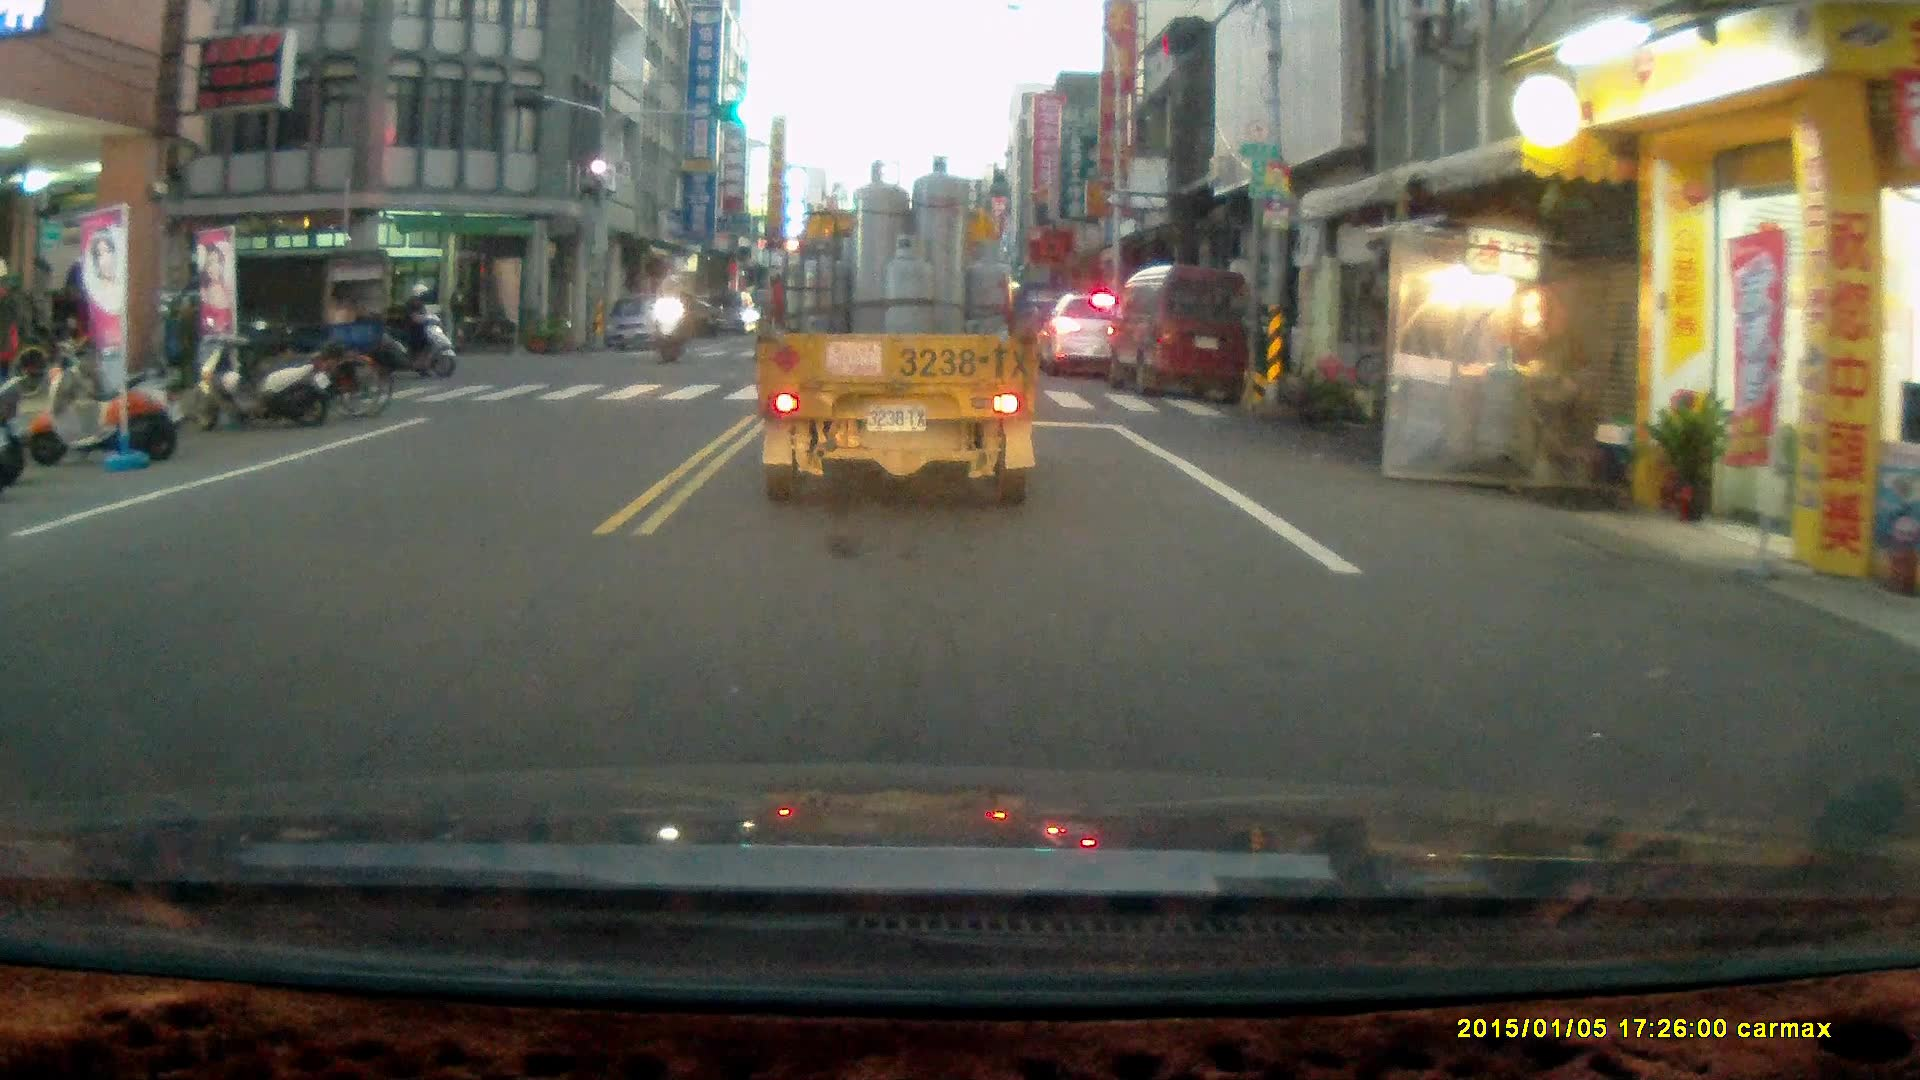pedestrian: (56, 260, 92, 369), (445, 276, 471, 354)
rider: (381, 284, 459, 384), (645, 269, 693, 366)
vehicle: (753, 163, 1031, 514), (129, 247, 395, 394), (1104, 264, 1255, 408), (1045, 291, 1132, 379), (605, 293, 680, 353), (697, 284, 758, 334)
